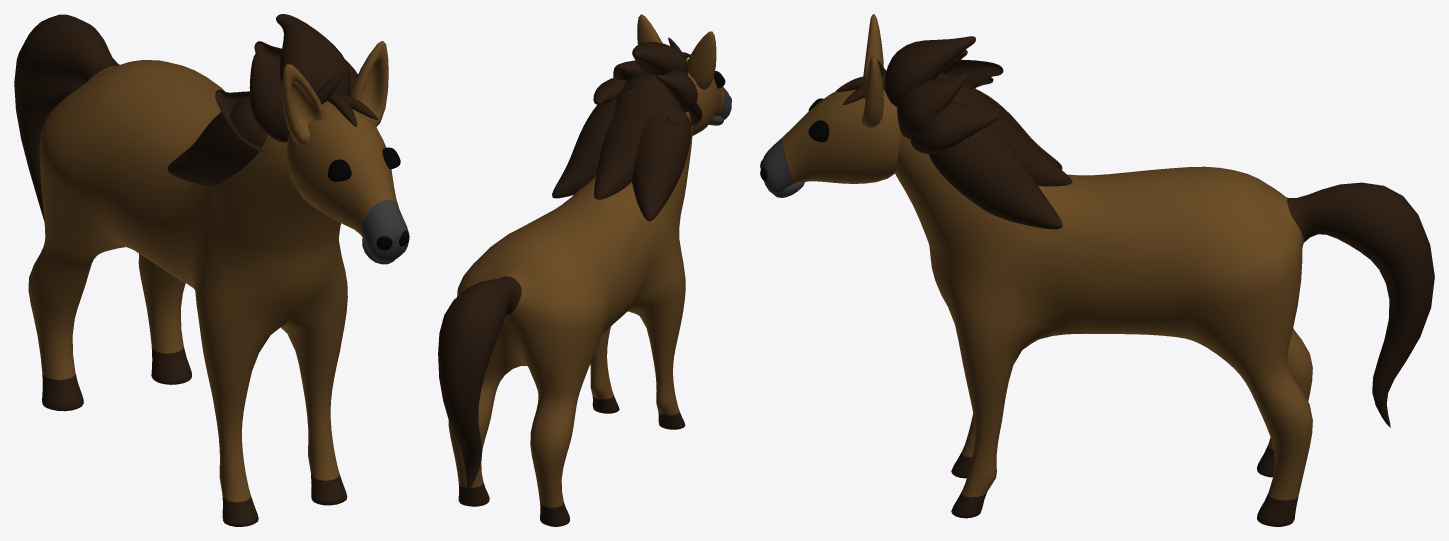
The model's file is Horse.glb.
3 renders of one model, left to right at view 1: azimuth 30°, elevation 25°; view 2: azimuth 150°, elevation 25°; view 3: azimuth 270°, elevation 25°, orthographic. The views are drawn at different scales.
Parts seen in each view (by area): view 1: Horse, Eyes_Horse; view 2: Horse; view 3: Horse.
Boxes of the visible parts, x1,y1,x2,y2 form: Horse: (14, 14, 409, 526); Eyes_Horse: (328, 147, 400, 181); Horse: (438, 14, 731, 526); Horse: (760, 14, 1434, 526).
Bounding box in the file's own units: 0.6873 × 1.82 × 2.43.
